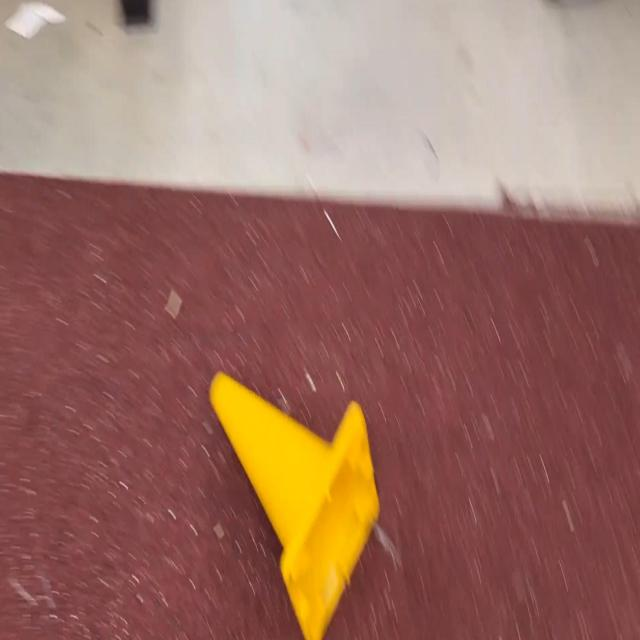frc_cone: (208, 373, 380, 639)
